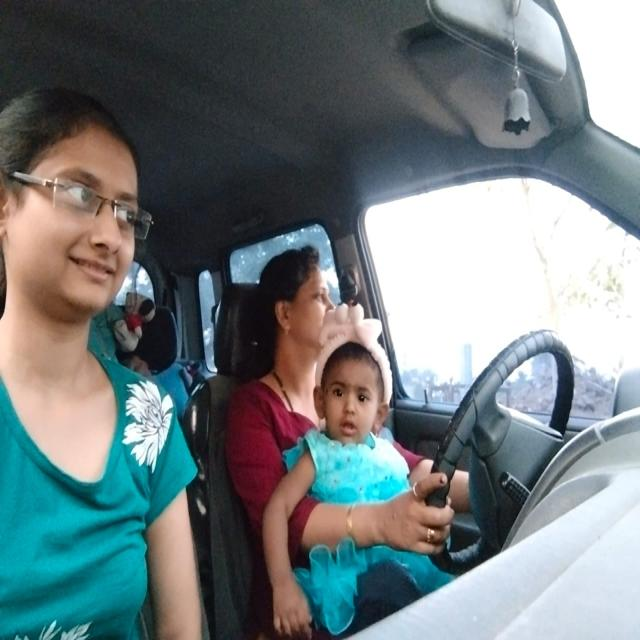child: (310, 346, 396, 448)
person: (9, 100, 146, 329), (255, 247, 333, 341)
